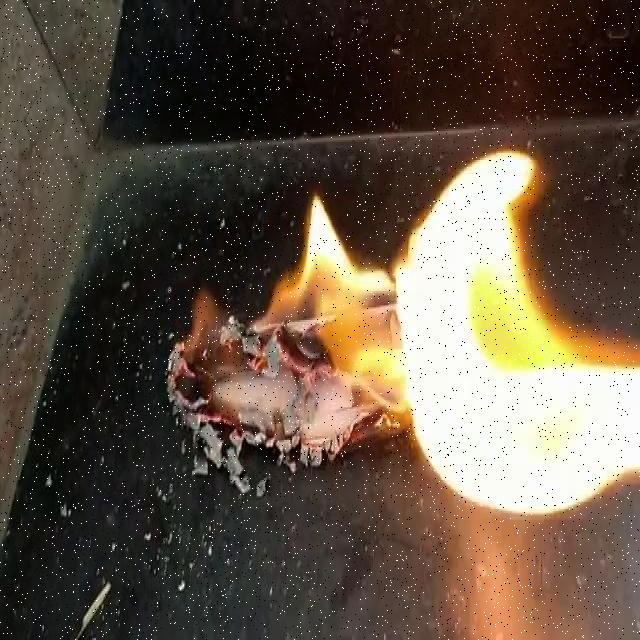fire: (286, 147, 640, 524), (175, 277, 240, 364)
